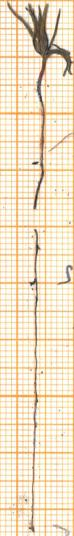flower: (0, 0, 74, 79)
root: (25, 226, 43, 527), (29, 167, 50, 213)
stem: (34, 77, 49, 164)
